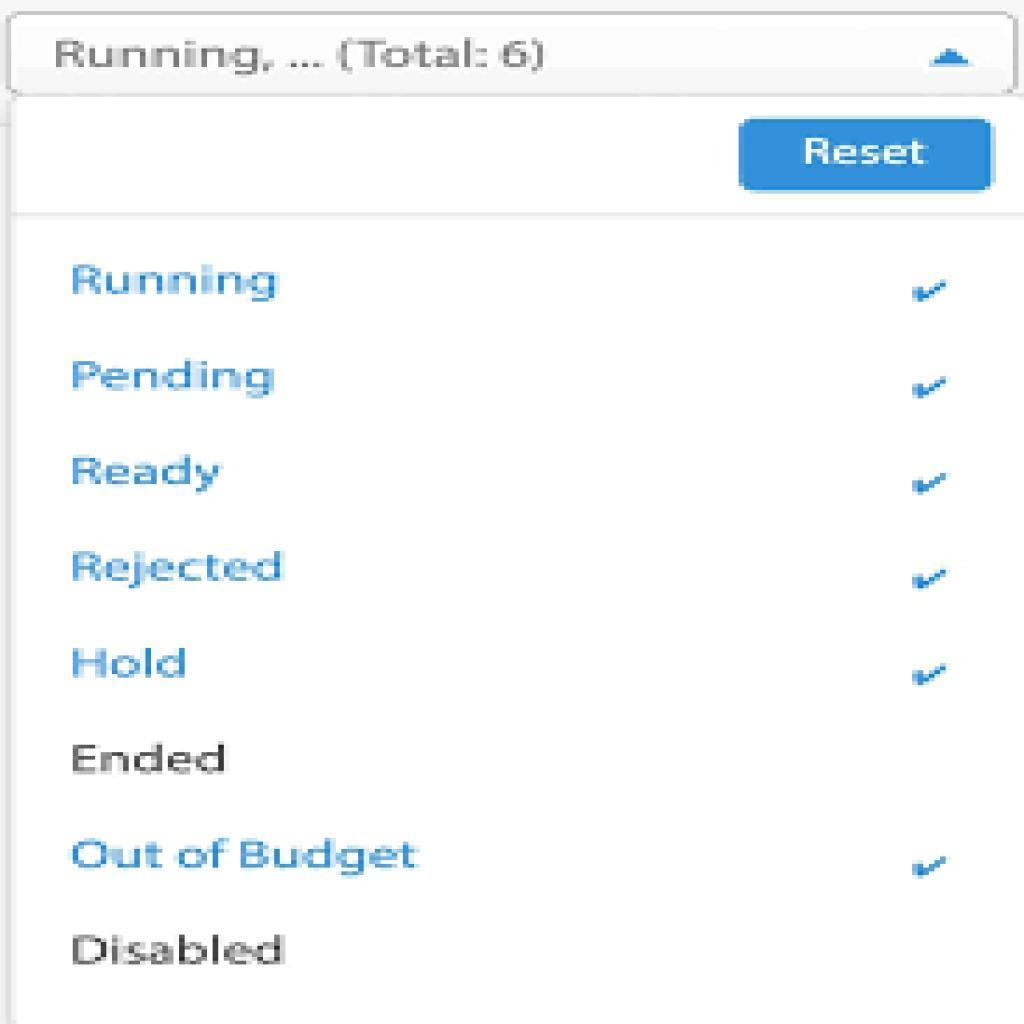button: (741, 119, 994, 190)
dropdown: (6, 11, 1021, 100)
